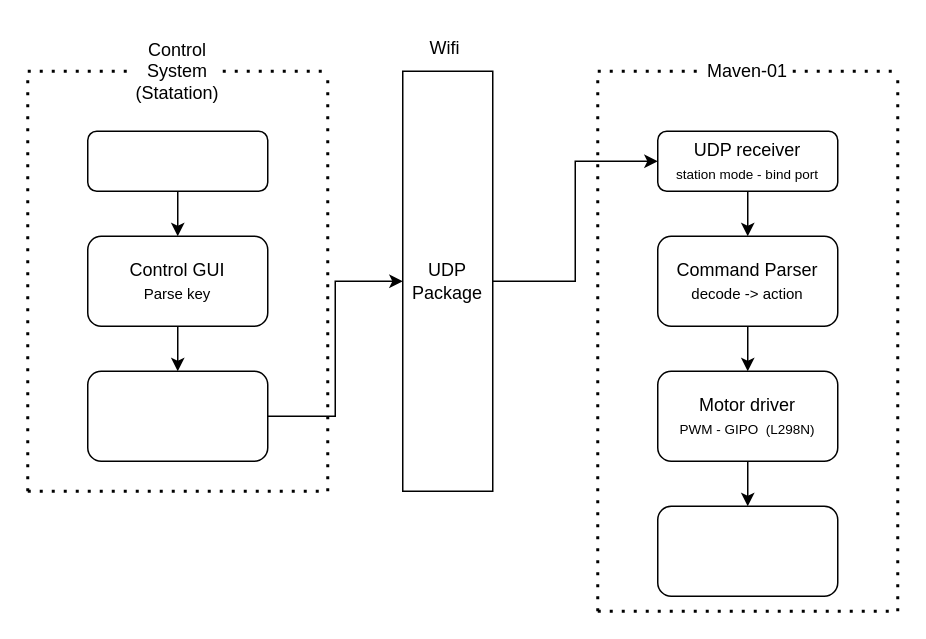
The diagram is 926 pixels wide and 639 high, and some of its shapes have lost their labels. The centre of each missing label's shape, as x and y in pixels:
"DC Motors" goes at (x=747, y=550).
"Keyboard" goes at (x=177, y=160).
"UDP socket - port xxxx" goes at (x=177, y=415).
